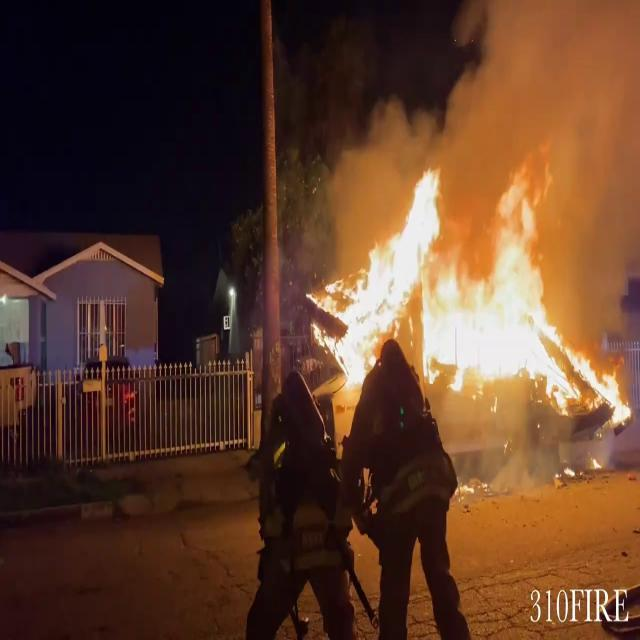Fire: (305, 149, 630, 409)
Smoke: (439, 1, 640, 276)
